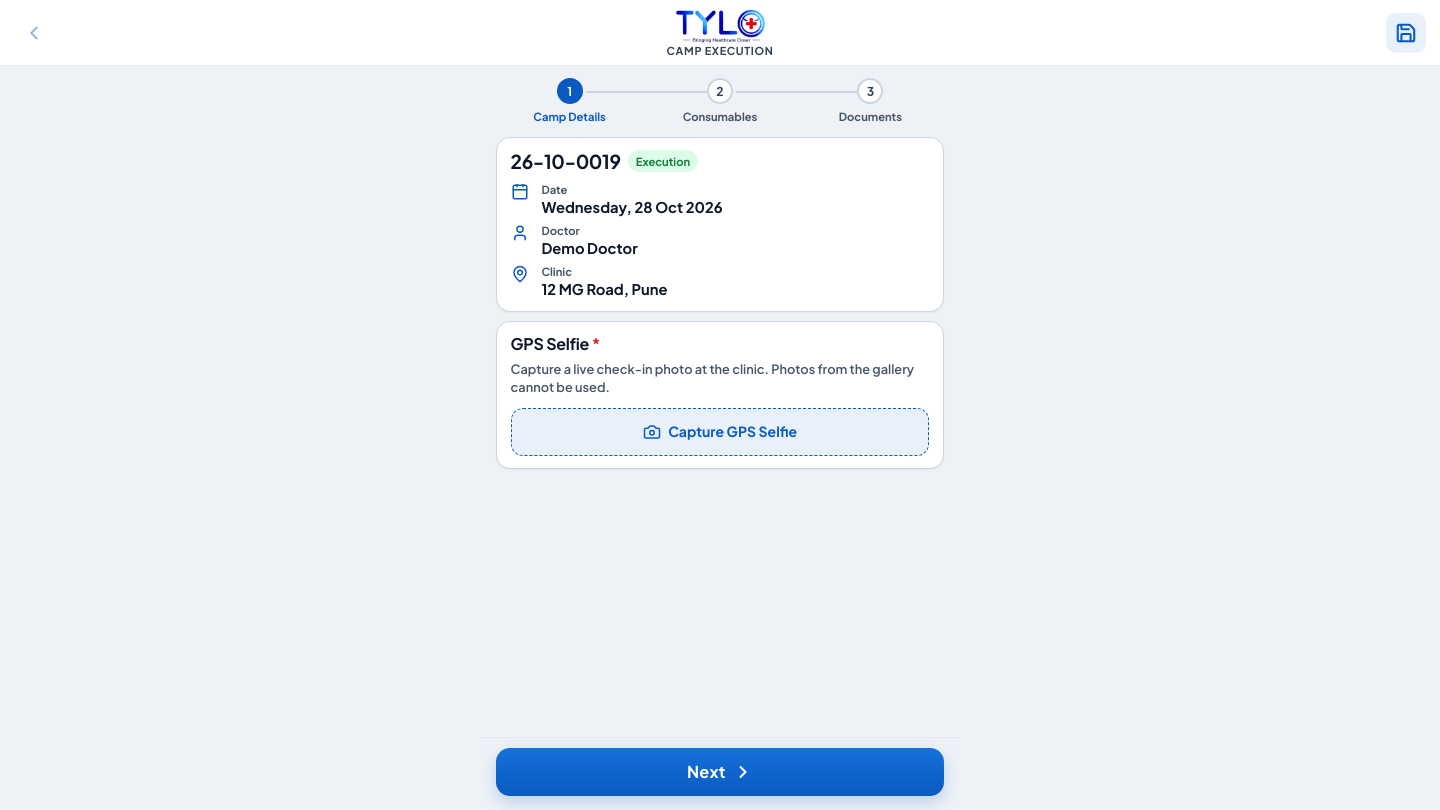
Test: CampExecutePage activity form layout › requires GPS selfie before leaving page 1
Expected: the text "26-10-0019" is shown, [511,150,621,172]
Step 1. Click the button "Next" → click(720, 772), box [496,748,944,796]
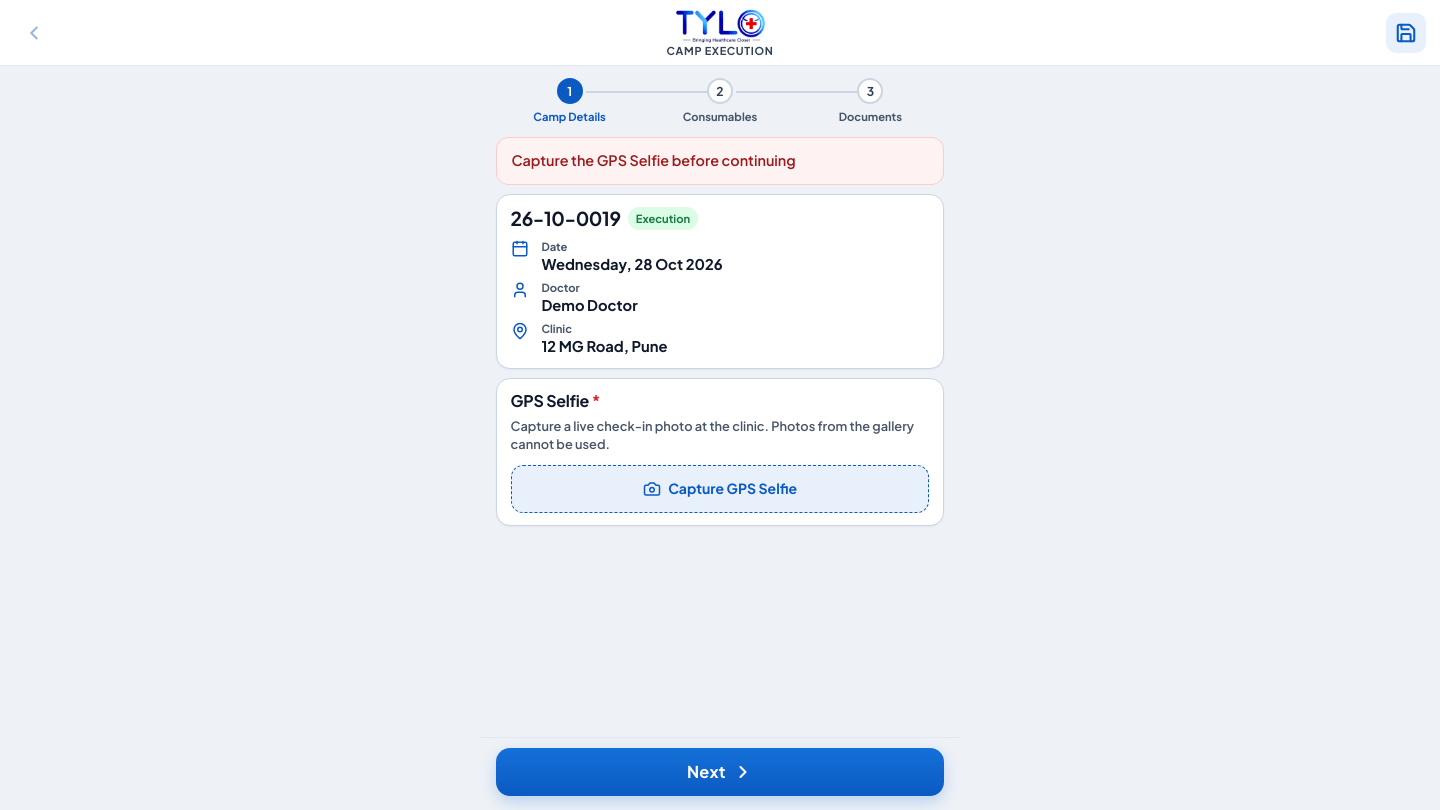
Expected: the heading "GPS Selfie *" is shown, [511,392,600,411]
Now the text "Capture the GPS Selfie before continuing" is shown, box [496,137,944,184]
